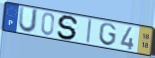0: (40, 12, 56, 37)
4: (119, 26, 135, 51)
G: (98, 22, 117, 47)
I: (85, 18, 93, 45)
S: (56, 15, 80, 41)
U: (17, 6, 40, 35)
